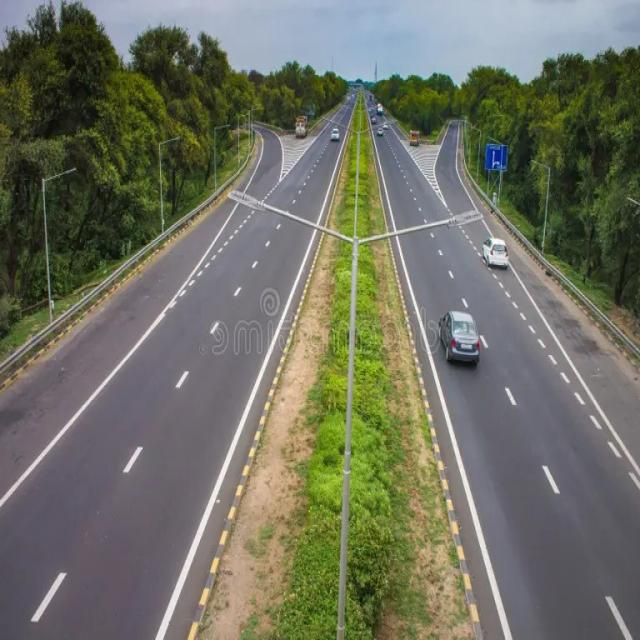Car: (440, 307, 479, 368), (479, 232, 511, 271), (331, 128, 341, 140)
Road-divider: (208, 163, 482, 639)
